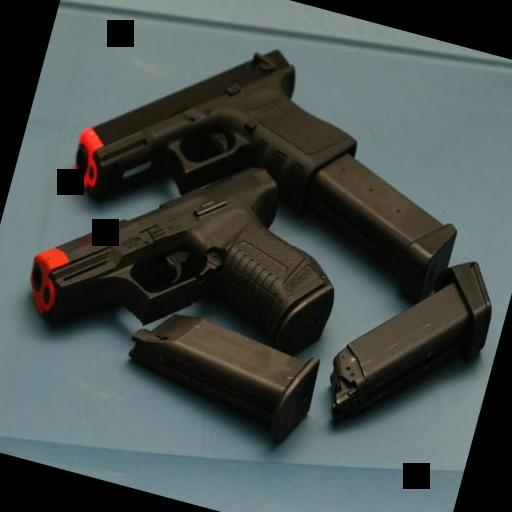Handgun: (56, 3, 496, 310), (9, 113, 363, 418)
